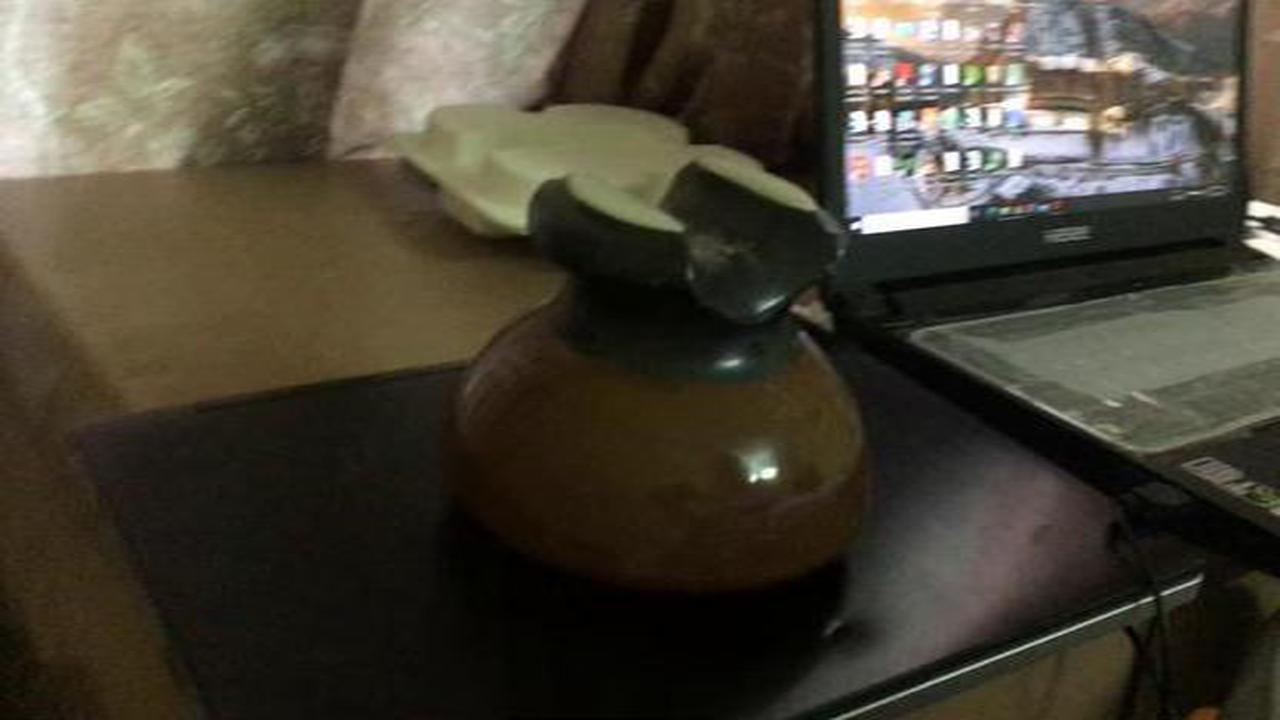insulator_pin: (428, 147, 899, 606)
